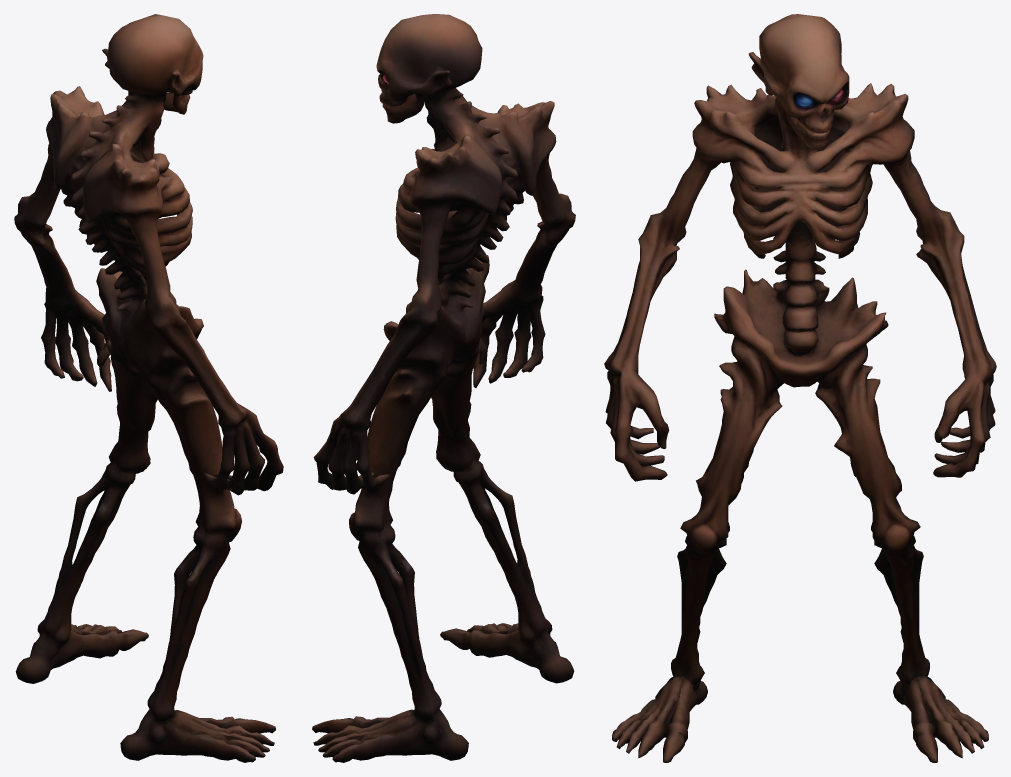
File: heterochromatic_zombie.fbx
The picture shows the model from 3 angles, left to right: view 1: azimuth 30°, elevation 25°; view 2: azimuth 150°, elevation 25°; view 3: azimuth 270°, elevation 25°; orthographic projection. The views are drawn at different scales.
Visible parts, largest first — view 1: tripo_node_70a643a7; view 2: tripo_node_70a643a7; view 3: tripo_node_70a643a7.
Boxes of the visible parts, bbox=[...] form: tripo_node_70a643a7: bbox=[14, 14, 283, 762]; tripo_node_70a643a7: bbox=[312, 14, 575, 762]; tripo_node_70a643a7: bbox=[604, 14, 996, 762].
Bounding box in the file's own units: 0.2192 × 1 × 0.4951.
